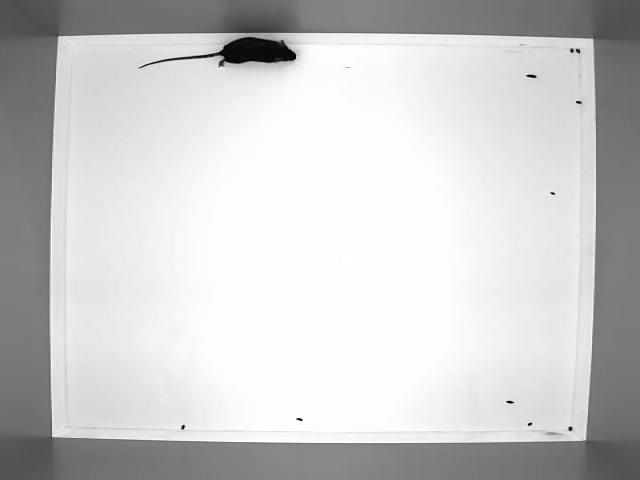Tikus: (136, 38, 298, 71)
